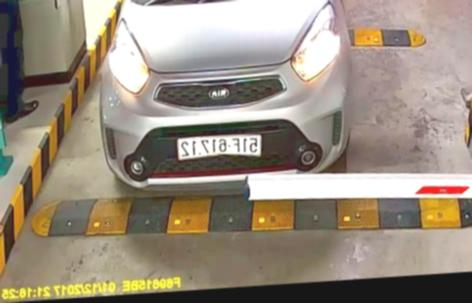License_Plate: (178, 131, 262, 166)
